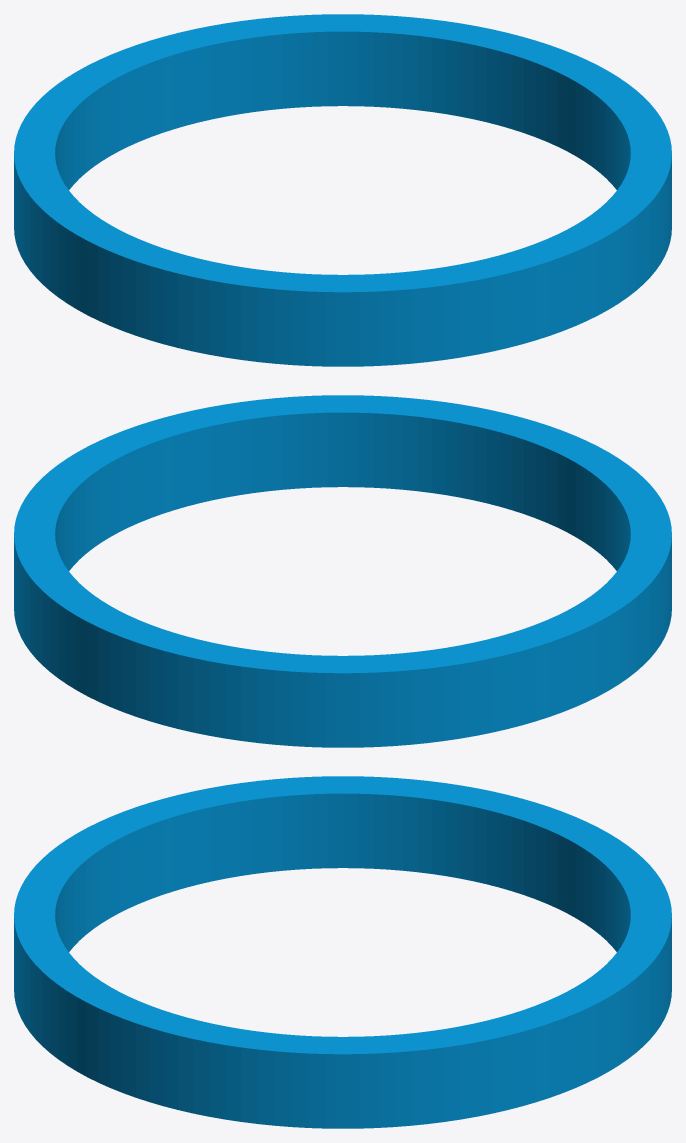
The model's file is wheel.gltf.
The picture shows the model from 3 angles, top to bottom: view 1: azimuth 30°, elevation 25°; view 2: azimuth 150°, elevation 25°; view 3: azimuth 270°, elevation 25°; orthographic projection.
Bounding box in the file's own units: 0.04 × 0.005 × 0.04.
